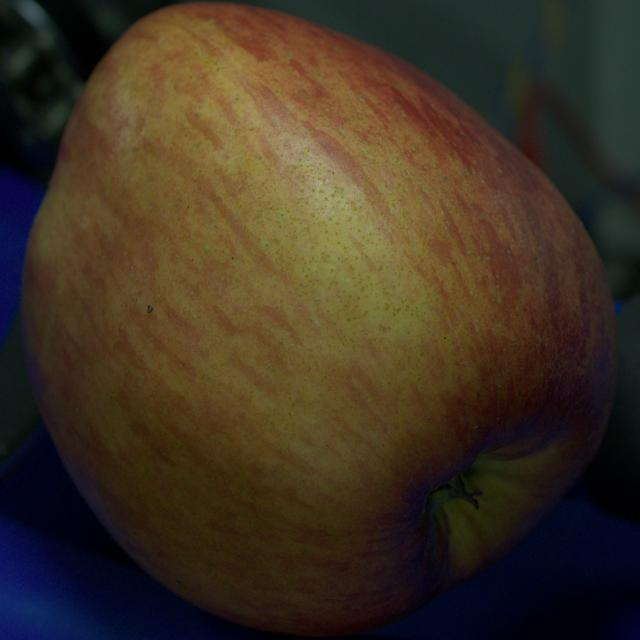apple: (21, 2, 616, 634)
